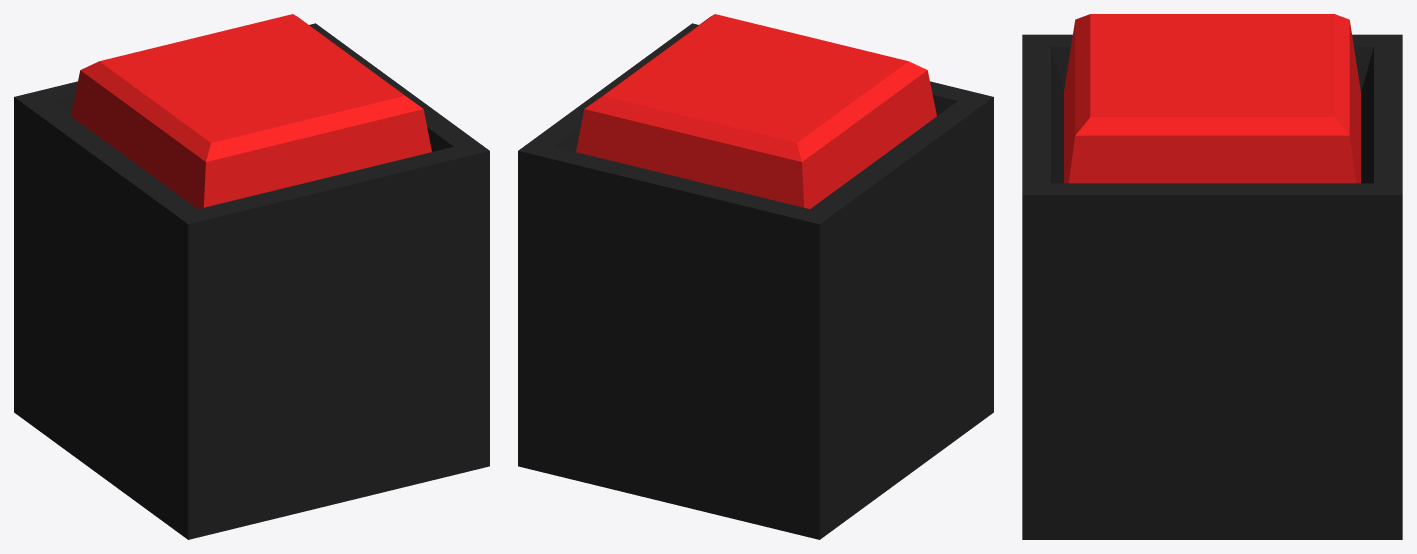
Rendered from button_simple.glb.
3 views of the same model, side by side, from view 1: azimuth 30°, elevation 25°; view 2: azimuth 150°, elevation 25°; view 3: azimuth 270°, elevation 25° (orthographic). The views are drawn at different scales.
Parts seen in each view (by area): view 1: button_base, button_button; view 2: button_base, button_button; view 3: button_base, button_button.
Boxes of the visible parts, x1,y1,x2,y2 form: button_base: [14, 23, 489, 539]; button_button: [71, 14, 431, 208]; button_base: [518, 23, 993, 539]; button_button: [576, 14, 936, 208]; button_base: [1022, 34, 1402, 539]; button_button: [1064, 14, 1360, 183].
Size of the model in its own units: 0.0631 by 0.0721 by 0.0631.
